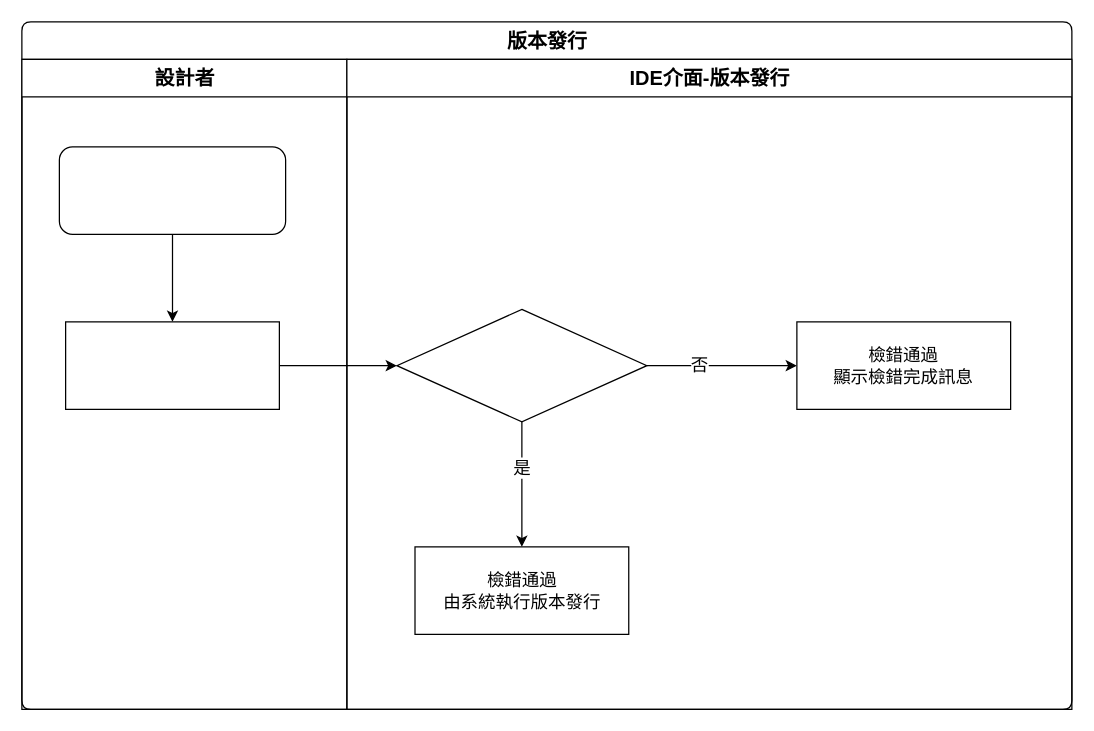
Some shapes in this 1094 by 731 pixel diagram are drawn without their labels. Each missing label, with the centre of its shape:
"執行按鍵.檢錯" goes at (171,365).
"是否勾選 通過檢錯，直接發行" goes at (521,365).
"駐留單任一版本發行介面" goes at (172,190).
